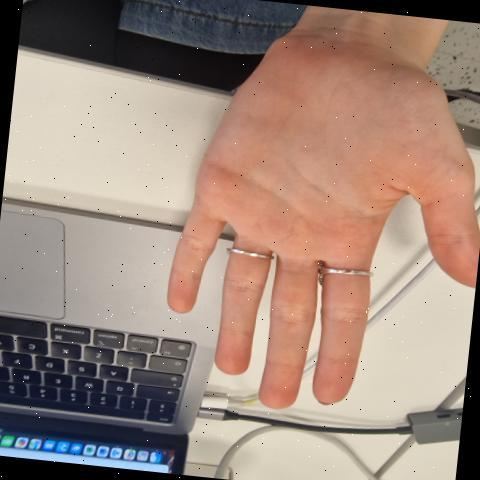Hands: (133, 20, 467, 464)
